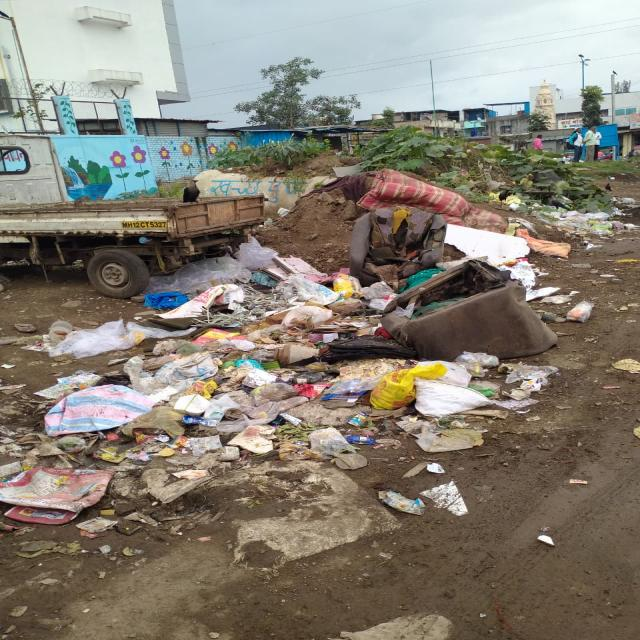garbage: (270, 171, 550, 432), (38, 279, 272, 537), (553, 202, 638, 240)
